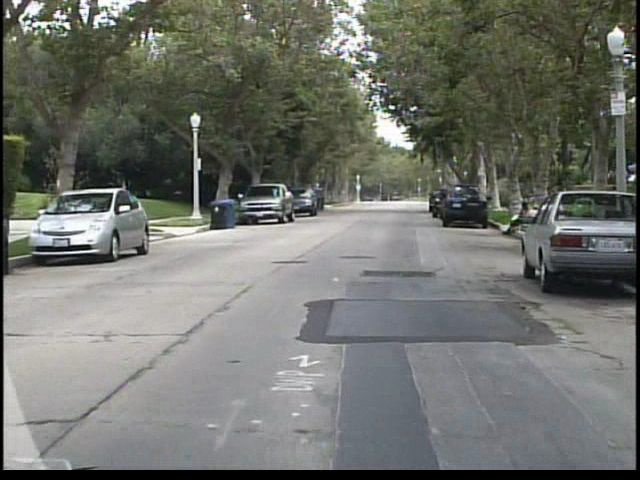person: (500, 197, 533, 238)
